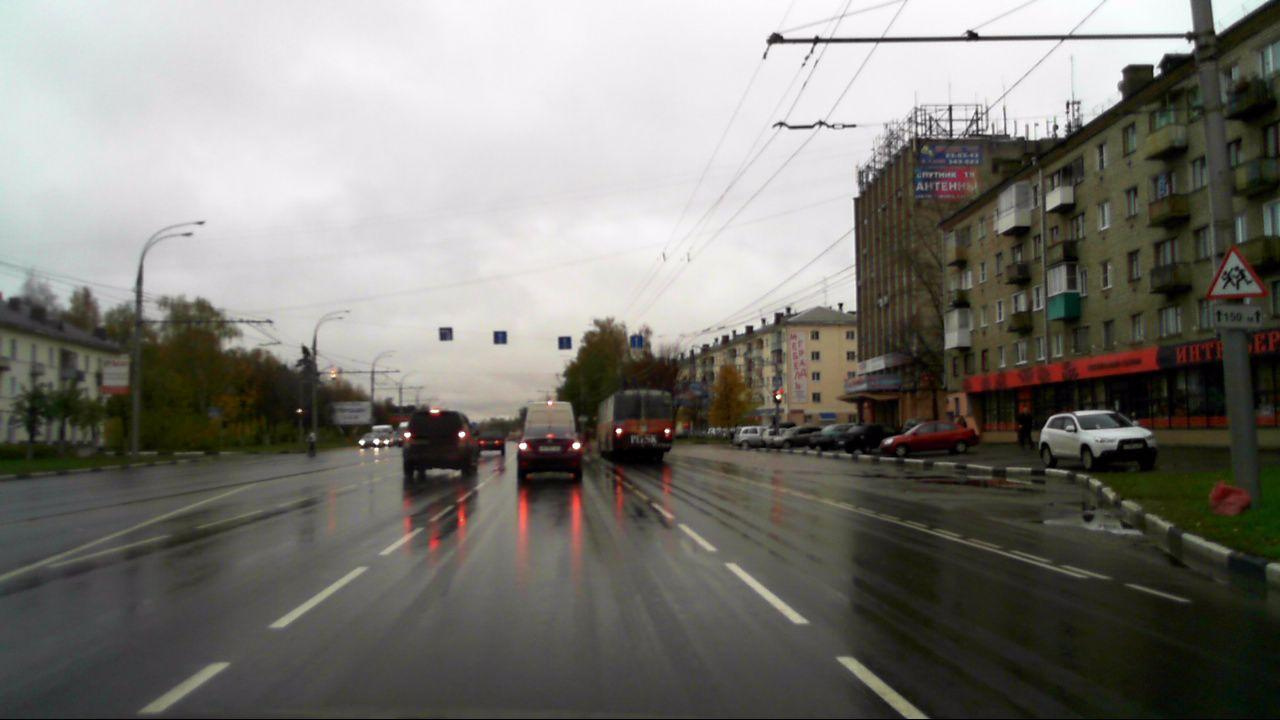1_23: (1207, 249, 1260, 298)
5_15_2: (493, 331, 508, 344), (557, 337, 573, 349), (440, 327, 453, 340), (631, 334, 643, 347)
